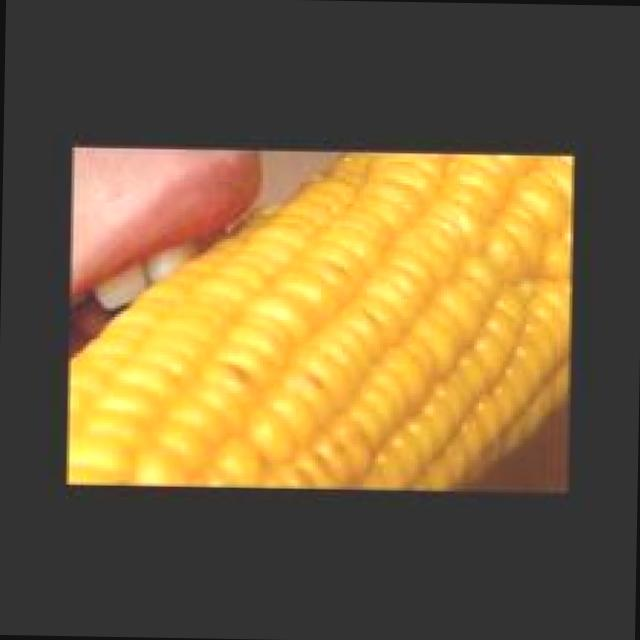corn: (68, 152, 574, 493)
